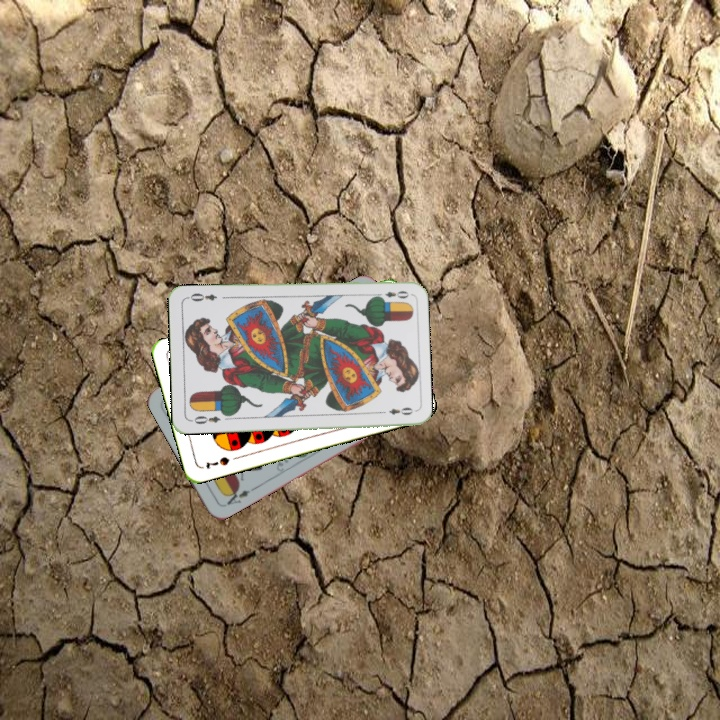EA: (220, 484, 257, 507)
EO: (372, 287, 411, 302), (187, 412, 223, 427)
S7: (202, 452, 232, 471)
